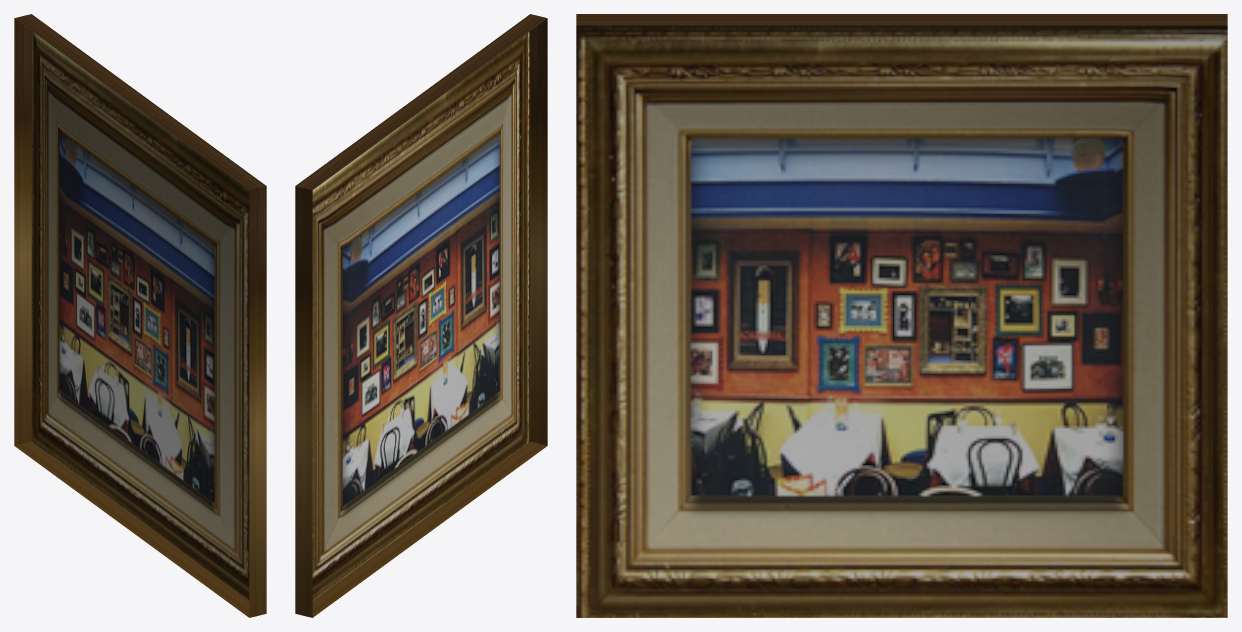
File: painting2.obj
The picture shows the model from 3 angles, left to right: view 1: azimuth 30°, elevation 25°; view 2: azimuth 150°, elevation 25°; view 3: azimuth 270°, elevation 25°; orthographic projection. The views are drawn at different scales.
Parts seen in each view (by area): view 1: paint2; view 2: paint2; view 3: paint2.
Part boxes in pixels (<box>): paint2: <box>14,14,266,617</box>; paint2: <box>295,14,547,617</box>; paint2: <box>576,14,1227,617</box>.
Size of the model in its own units: 1.3 by 30.5 by 30.41.
Materials: 1 (1 with a texture image).
